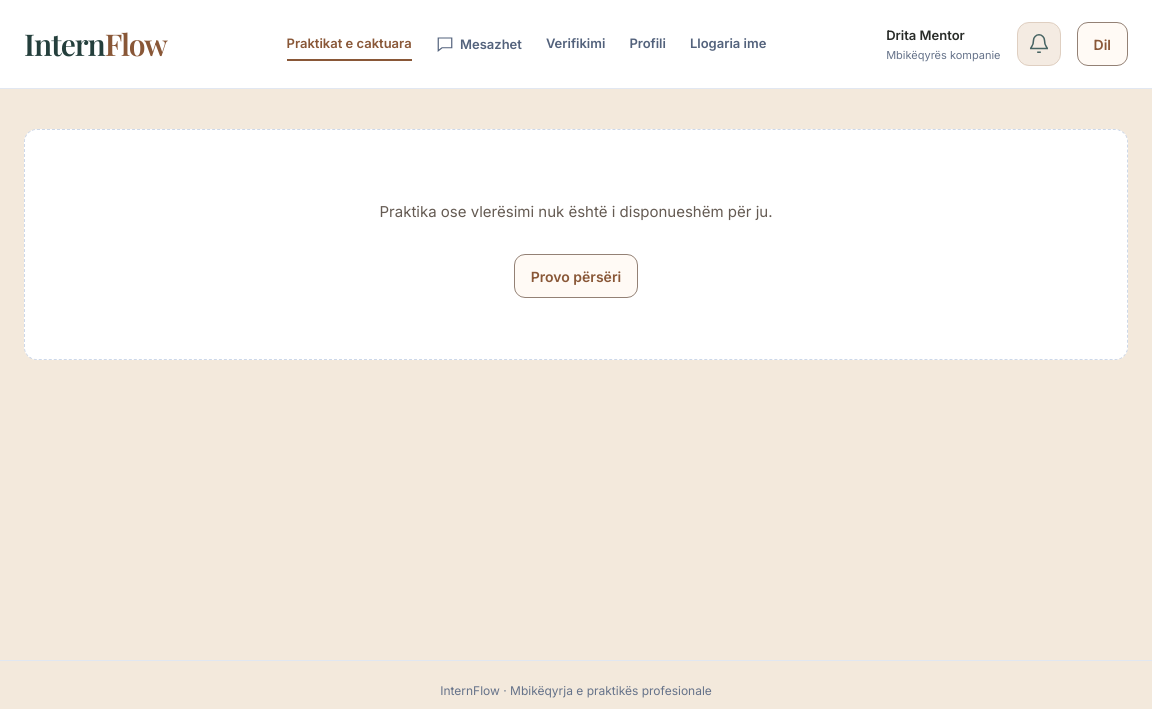
Test: shows loading, fetch error and retry without leaking a foreign record
Expected: the message "Praktika ose vlerësimi nuk është i disponueshëm për ju." is shown, [356, 198, 796, 225]
Expected: the text "Evaluation internship" is not shown
Click the button "Provo përsëri" at x=576, y=276, box [514, 254, 638, 298]
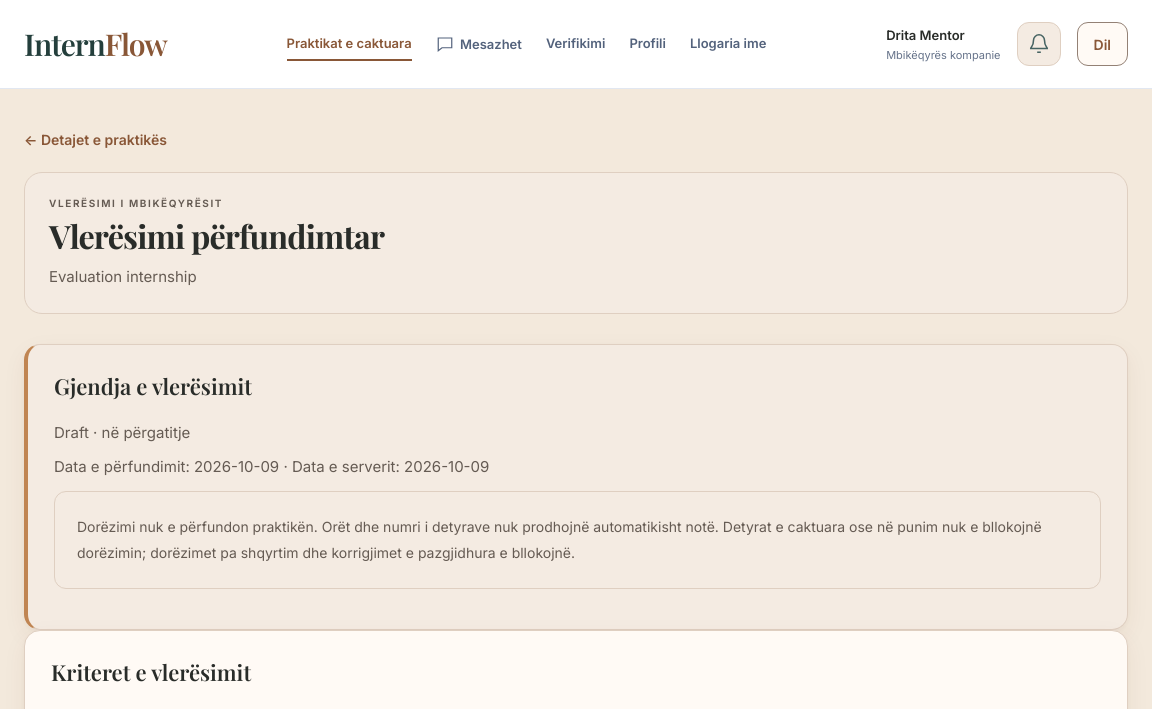
Expected: the text "Draft · në përgatitje" is shown, [54, 423, 190, 442]
